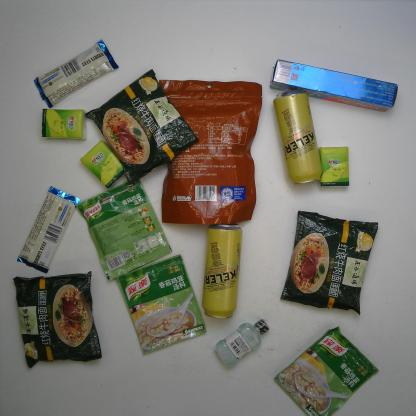Alcohol: (272, 89, 322, 185), (201, 223, 244, 321)
Chocolate: (33, 38, 120, 110), (15, 185, 82, 274)
Dried Food: (157, 78, 264, 224)
Instant Noodles: (85, 68, 200, 186), (280, 210, 379, 316), (9, 269, 103, 370)
Personal Hygiene: (268, 58, 400, 113), (213, 318, 270, 369)
Seasoner: (74, 178, 172, 283), (273, 324, 380, 416), (116, 254, 208, 356)
Tissue: (79, 138, 126, 190), (40, 107, 88, 141), (317, 146, 350, 188)
